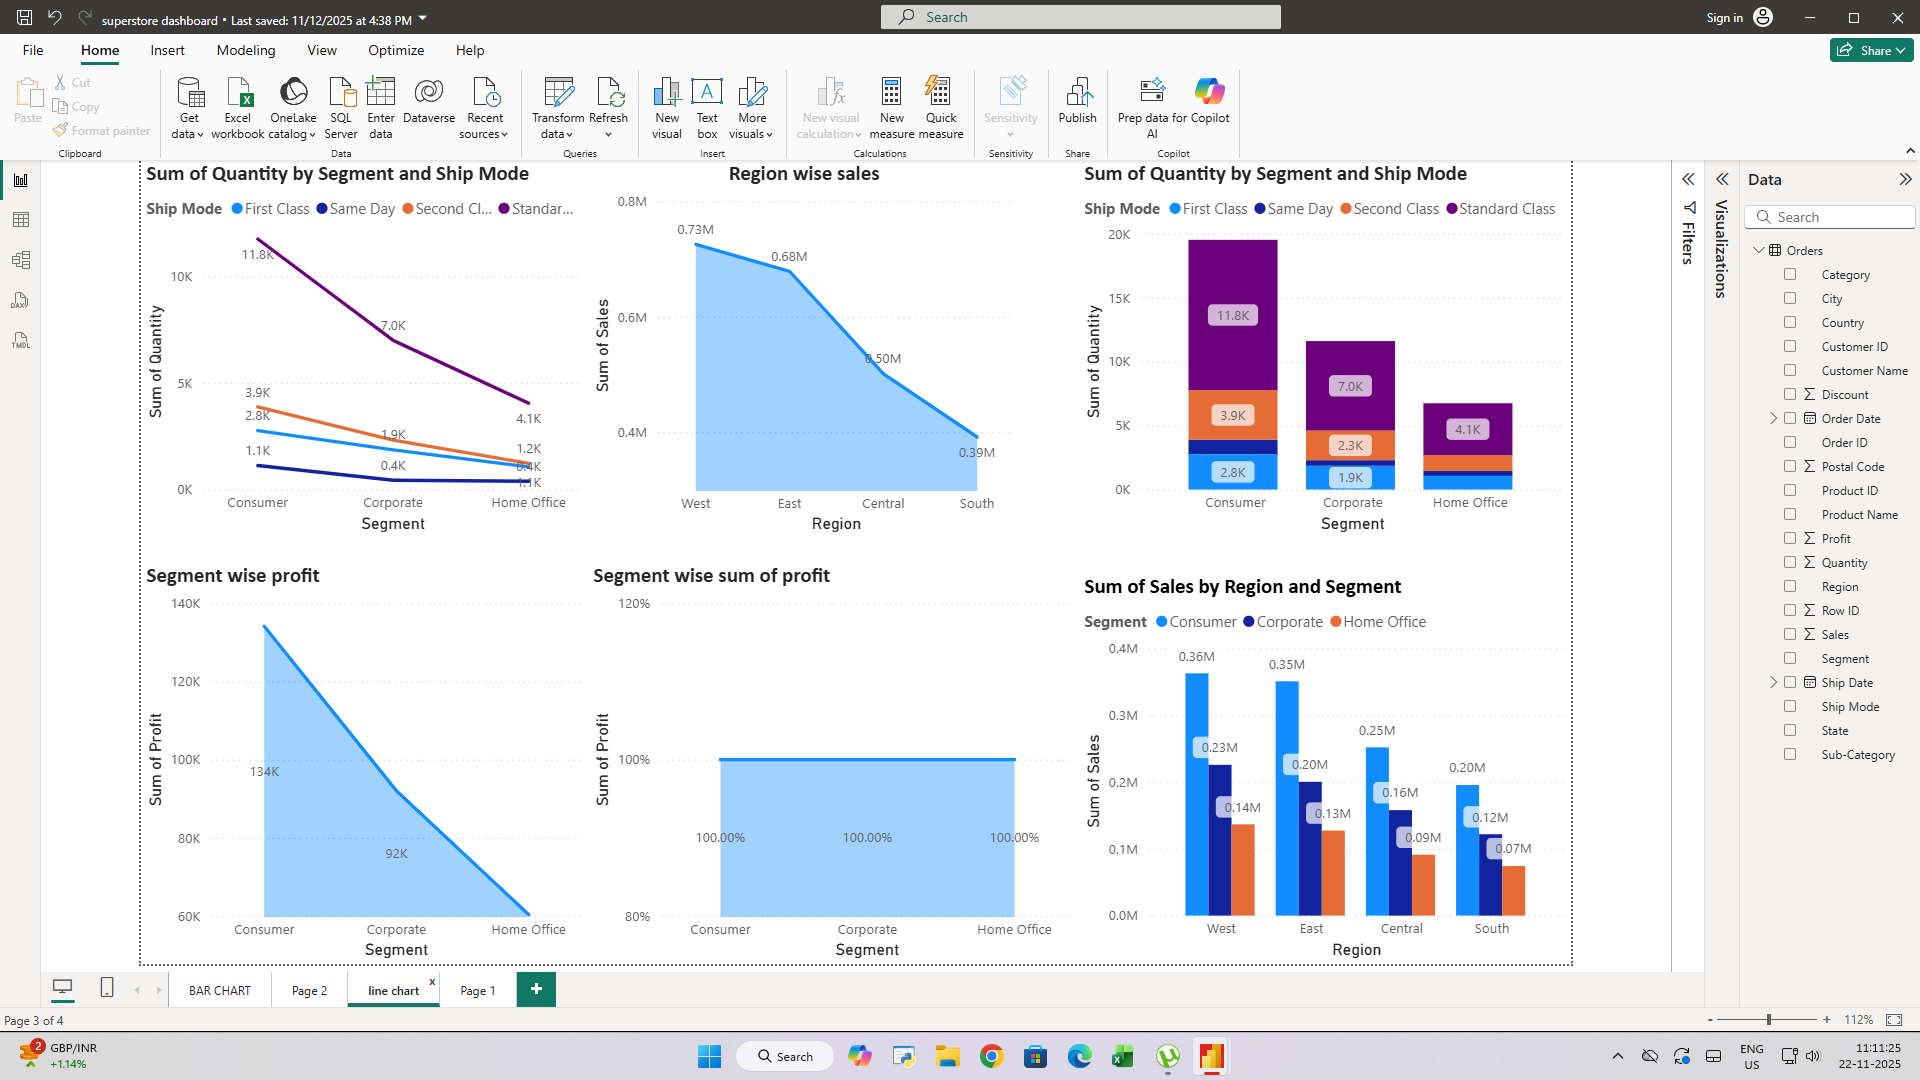

The page's visual inventory and layout, read from the dashboard file:
{"tool":"powerbi","page":{"name":"line chart","canvas":[1280,720],"ordinal":2},"visuals":[{"type":"lineChart","fields":{"Category":["Orders.Segment"],"Y":["Sum(Orders.Quantity)"],"Series":["Orders.Ship Mode"]},"box":[0,0,400.7,338.5],"z":0},{"type":"areaChart","title":"Region wise sales","fields":{"Category":["Orders.Region"],"Y":["Sum(Orders.Sales)"]},"box":[400.7,0,387.1,338.5],"z":1000},{"type":"stackedAreaChart","title":"Segment wise profit","fields":{"Category":["Orders.Segment"],"Y":["Sum(Orders.Profit)"]},"box":[0,359.9,400.7,359.9],"z":2000},{"type":"hundredPercentStackedAreaChart","title":"Segment wise sum of profit","fields":{"Category":["Orders.Segment"],"Y":["Sum(Orders.Profit)"]},"box":[400.7,359.9,439.6,359.9],"z":3000},{"type":"lineStackedColumnComboChart","fields":{"Category":["Orders.Segment"],"Y":["Sum(Orders.Quantity)"],"Series":["Orders.Ship Mode"]},"box":[840.4,0,439.6,338.5],"z":4000},{"type":"lineClusteredColumnComboChart","fields":{"Category":["Orders.Region"],"Y":["Sum(Orders.Sales)"],"Series":["Orders.Segment"]},"box":[840.4,369.6,439.6,350.2],"z":5000}]}

Visuals, with their boxes on the page's 1280x720 design canvas (x1, y1, x2, y2). These are canvas units, not pixel positions in the 1920x1080 screenshot, which may show the page scaled, cropped or inside an application window:
lineChart - Orders.Segment x Sum(Orders.Quantity): region(0, 0, 401, 338)
"Region wise sales" areaChart: region(401, 0, 788, 338)
"Segment wise profit" stackedAreaChart: region(0, 360, 401, 720)
"Segment wise sum of profit" hundredPercentStackedAreaChart: region(401, 360, 840, 720)
lineStackedColumnComboChart - Orders.Segment x Sum(Orders.Quantity): region(840, 0, 1280, 338)
lineClusteredColumnComboChart - Orders.Region x Sum(Orders.Sales): region(840, 370, 1280, 720)
